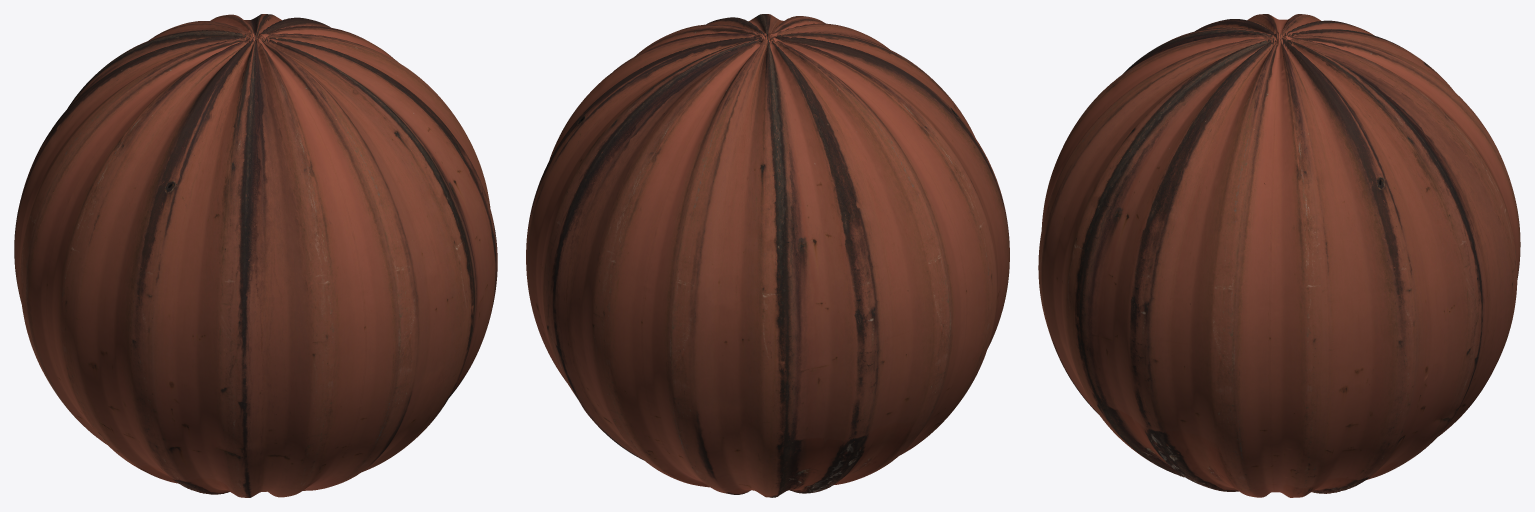
The model's file is rusty_painted_metal_2k.gltf.
The picture shows the model from 3 angles, left to right: view 1: azimuth 30°, elevation 25°; view 2: azimuth 150°, elevation 25°; view 3: azimuth 270°, elevation 25°; orthographic projection.
Parts seen in each view (by area): view 1: sphere_gltf; view 2: sphere_gltf; view 3: sphere_gltf.
Part boxes in pixels (x1=…): sphere_gltf: x1=14, y1=14, x2=497, y2=497; sphere_gltf: x1=526, y1=14, x2=1009, y2=497; sphere_gltf: x1=1038, y1=14, x2=1520, y2=497.
Bounding box in the file's own units: 2.21 × 2.23 × 2.21.
Materials: 1 (1 with a texture image).
